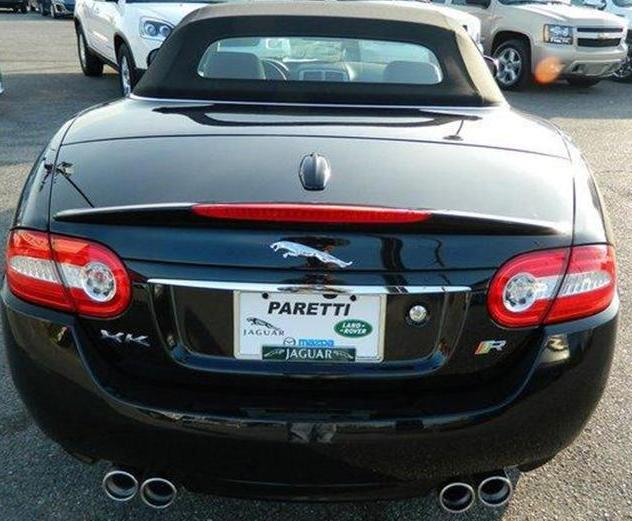back_view: (0, 196, 623, 519)
backlight: (483, 241, 620, 336)
